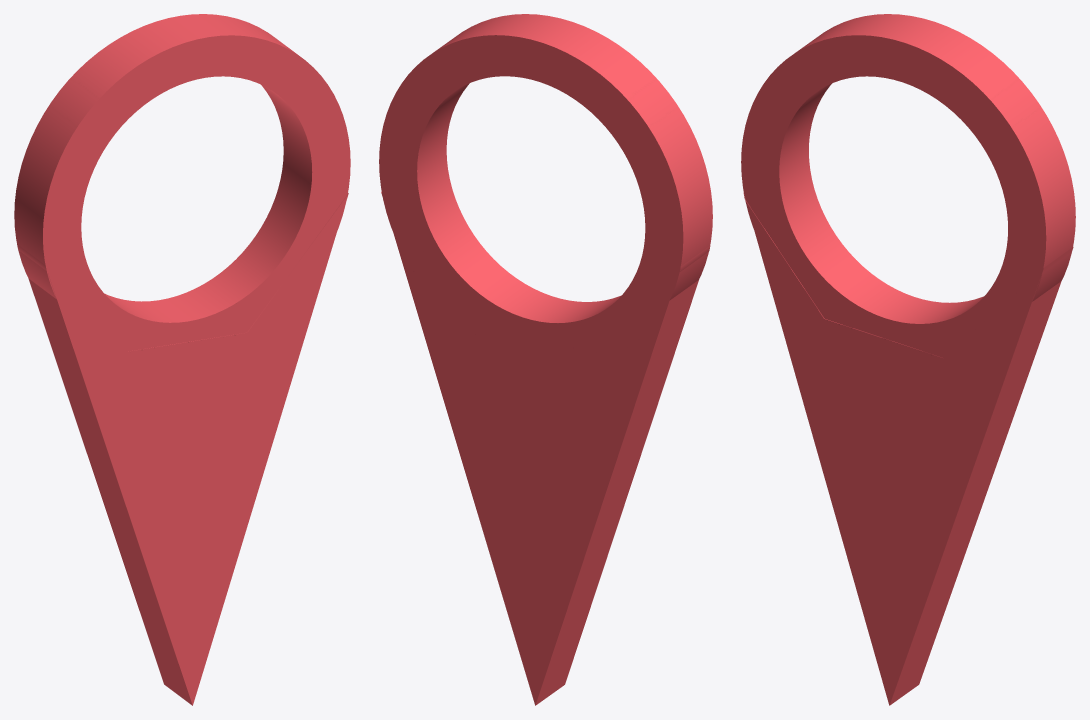
The model's file is pin.fbx.
3 views of the same model, side by side, from view 1: azimuth 30°, elevation 25°; view 2: azimuth 150°, elevation 25°; view 3: azimuth 330°, elevation 25° (orthographic).
Parts seen in each view (by area): view 1: root (×2); view 2: root (×2); view 3: root (×2).
Part boxes in pixels (box(x1,y1,x2,y2)): root (×2): box(14, 14, 350, 705); root (×2): box(379, 14, 712, 705); root (×2): box(741, 14, 1075, 705).
Size of the model in its own units: 0.2137 by 0.4432 by 0.0374.
2 materials, 2 textured.
